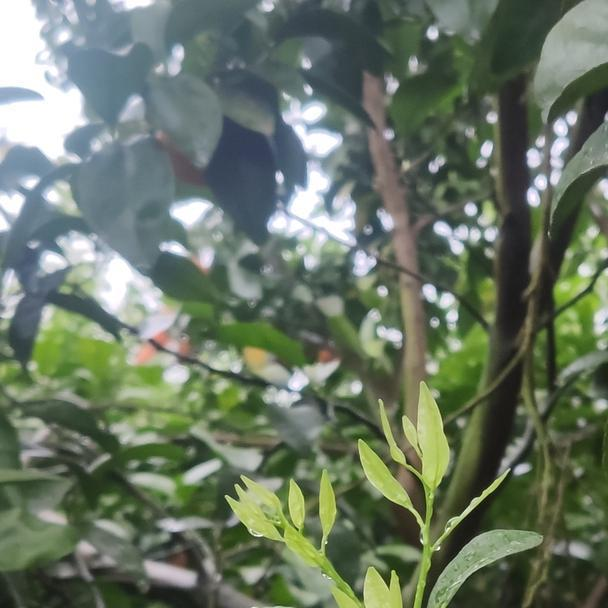shoot: (380, 397, 481, 589), (236, 474, 355, 602)
